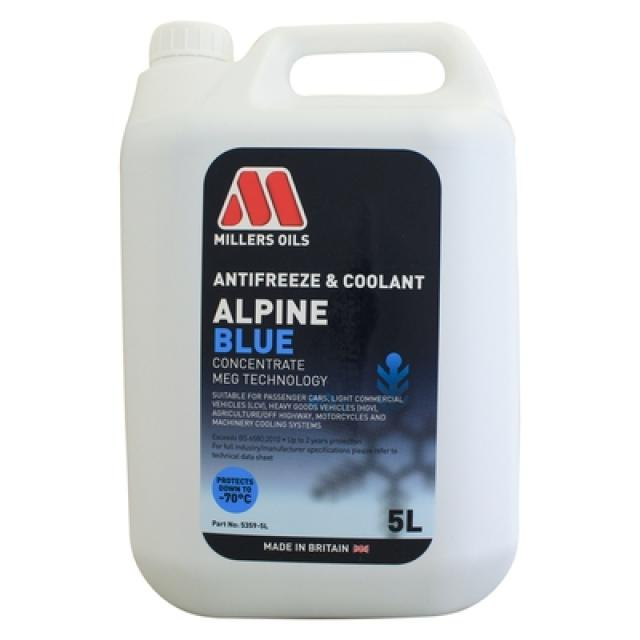coolant: (126, 12, 522, 624)
